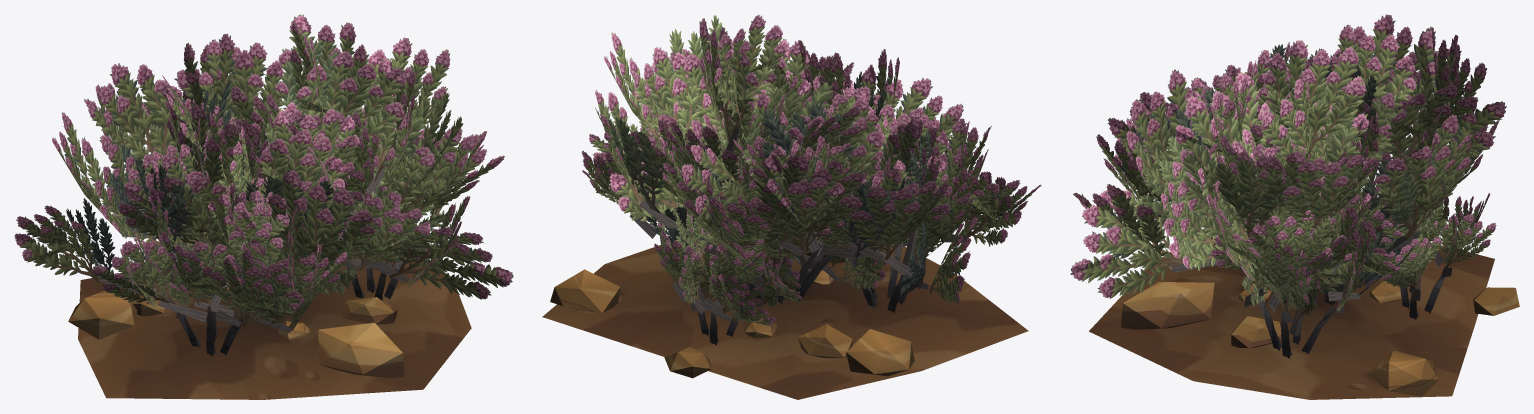
File: tomilho.glb
The picture shows the model from 3 angles, left to right: view 1: azimuth 30°, elevation 25°; view 2: azimuth 150°, elevation 25°; view 3: azimuth 270°, elevation 25°; orthographic projection. The views are drawn at different scales.
Visible parts, largest first — view 1: Tomilho3_Larga_Florida, Tomilho4_Grupo_Florida, Tomilho2_Media_Florida, Tomilho3_Larga_Folhagem, Tomilho4_Grupo_Folhagem, Tomilho2_Media_Folhagem, Tomilho1_Pequena_Florida; view 2: Tomilho4_Grupo_Florida, Tomilho3_Larga_Florida, Tomilho2_Media_Florida, Tomilho3_Larga_Folhagem, Tomilho1_Pequena_Florida, Tomilho4_Grupo_Folhagem, Tomilho2_Media_Folhagem; view 3: Tomilho3_Larga_Florida, Tomilho4_Grupo_Florida, Tomilho2_Media_Florida, Tomilho3_Larga_Folhagem, Tomilho4_Grupo_Folhagem, Tomilho2_Media_Folhagem, Tomilho1_Pequena_Florida.
Part boxes in pixels (left/top/right/bottom): Tomilho3_Larga_Florida: left=52, top=15, right=512, bottom=324; Tomilho4_Grupo_Florida: left=14, top=119, right=471, bottom=399; Tomilho2_Media_Florida: left=110, top=97, right=454, bottom=311; Tomilho3_Larga_Folhagem: left=53, top=14, right=513, bottom=299; Tomilho4_Grupo_Folhagem: left=16, top=118, right=447, bottom=322; Tomilho2_Media_Folhagem: left=136, top=103, right=429, bottom=267; Tomilho1_Pequena_Florida: left=170, top=186, right=368, bottom=339; Tomilho4_Grupo_Florida: left=542, top=87, right=1040, bottom=399; Tomilho3_Larga_Florida: left=594, top=15, right=962, bottom=358; Tomilho2_Media_Florida: left=654, top=72, right=918, bottom=338; Tomilho3_Larga_Folhagem: left=596, top=15, right=963, bottom=255; Tomilho1_Pequena_Florida: left=702, top=151, right=887, bottom=301; Tomilho4_Grupo_Folhagem: left=581, top=87, right=1041, bottom=323; Tomilho2_Media_Folhagem: left=658, top=92, right=905, bottom=255; Tomilho3_Larga_Florida: left=1071, top=14, right=1505, bottom=348; Tomilho4_Grupo_Florida: left=1089, top=44, right=1519, bottom=399; Tomilho2_Media_Florida: left=1160, top=78, right=1437, bottom=306; Tomilho3_Larga_Folhagem: left=1070, top=15, right=1506, bottom=298; Tomilho4_Grupo_Folhagem: left=1096, top=65, right=1496, bottom=314; Tomilho2_Media_Folhagem: left=1161, top=79, right=1437, bottom=268; Tomilho1_Pequena_Florida: left=1238, top=162, right=1411, bottom=301.
Bounding box in the file's own units: 1.39 × 0.9109 × 1.27.
2 materials, 2 textured.
